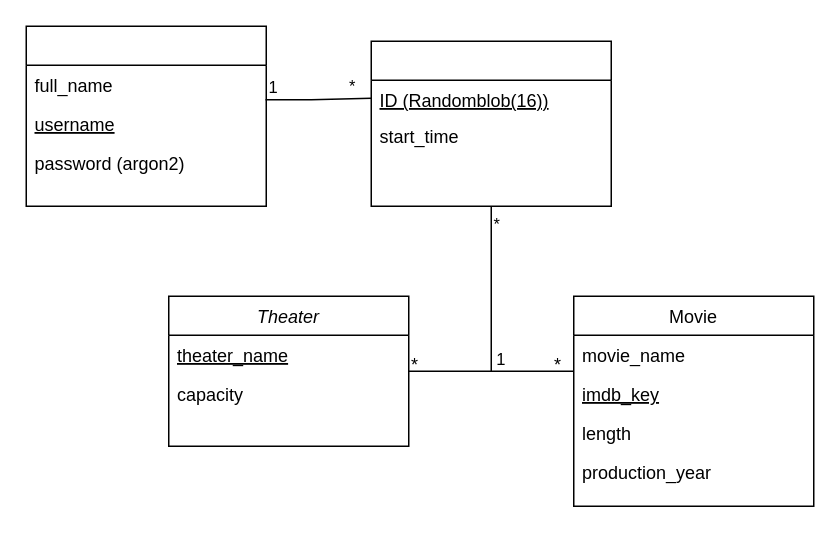
This 840x533 diagram has some shape labels left out. The box of each missing label's shape, as (x1, y1, x2, y2) in pixels:
Customer: (25, 25, 266, 206)
Ticket: (370, 40, 611, 206)
